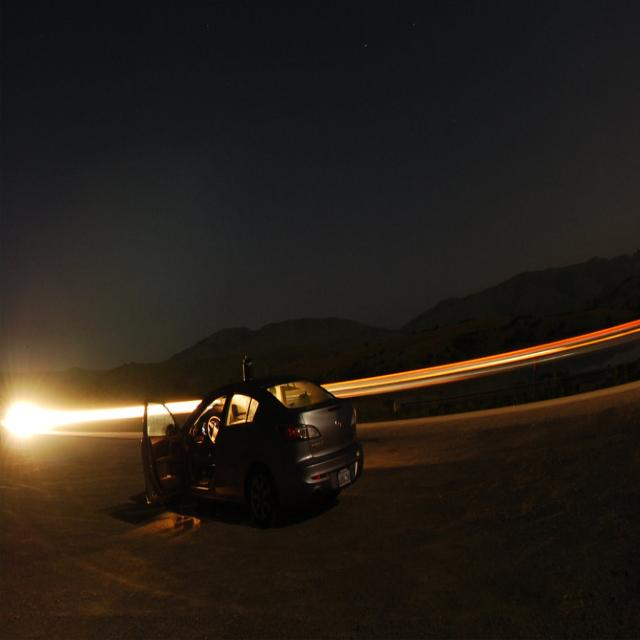People: (235, 320, 267, 415)
car: (115, 362, 375, 550)
